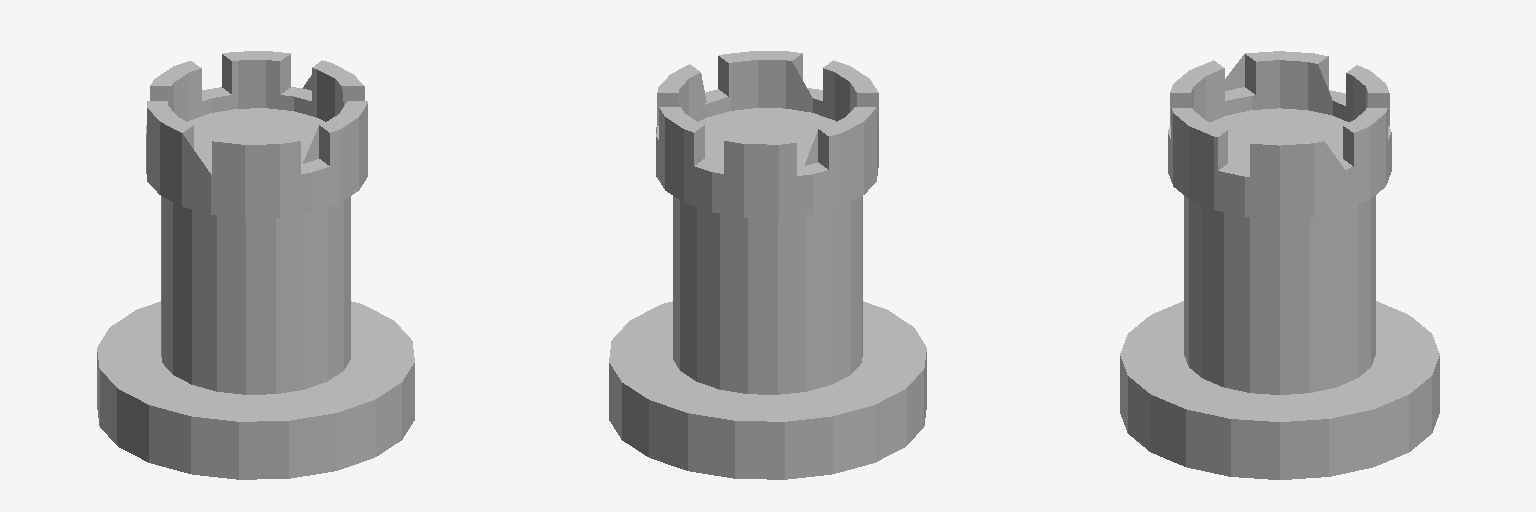
File: rook.obj
3 views of the same model, side by side, from view 1: azimuth 30°, elevation 25°; view 2: azimuth 150°, elevation 25°; view 3: azimuth 270°, elevation 25° (orthographic).
Visible parts, largest first — view 1: pCylinder2, pCylinder1, polySurface3; view 2: pCylinder2, pCylinder1, polySurface3; view 3: pCylinder2, pCylinder1, polySurface3.
Boxes of the visible parts, x1=… form: pCylinder2: x1=161, y1=108, x2=350, y2=394; pCylinder1: x1=97, y1=301, x2=414, y2=479; polySurface3: x1=146, y1=51, x2=367, y2=218; pCylinder2: x1=673, y1=108, x2=862, y2=394; pCylinder1: x1=609, y1=301, x2=926, y2=479; polySurface3: x1=656, y1=51, x2=878, y2=217; pCylinder2: x1=1184, y1=108, x2=1375, y2=394; pCylinder1: x1=1120, y1=301, x2=1439, y2=479; polySurface3: x1=1168, y1=51, x2=1391, y2=218.
Bounding box in the file's own units: 2 × 2.18 × 2.